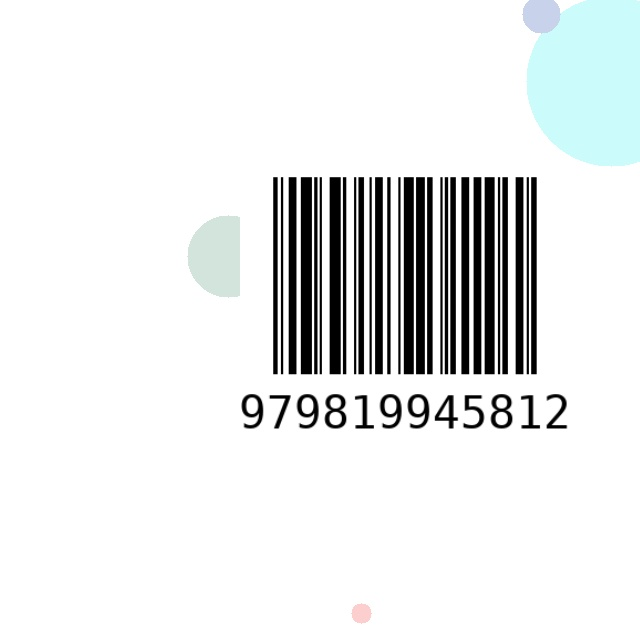barcode: (240, 165, 570, 475)
